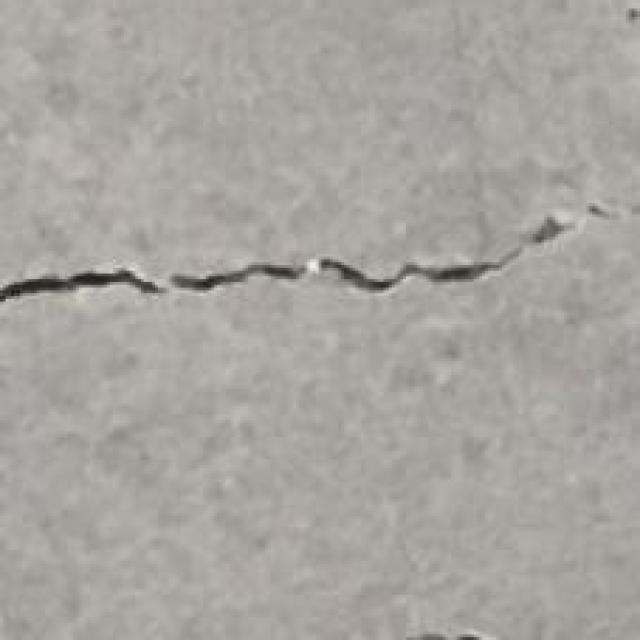Crack: (0, 199, 633, 304)
